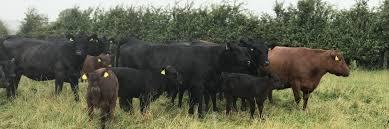cow: (117, 41, 250, 117), (0, 32, 98, 104), (261, 46, 351, 109), (113, 64, 183, 115), (223, 74, 285, 119), (81, 68, 120, 129), (239, 40, 277, 76), (80, 51, 113, 80), (0, 55, 20, 100), (89, 35, 114, 55)
